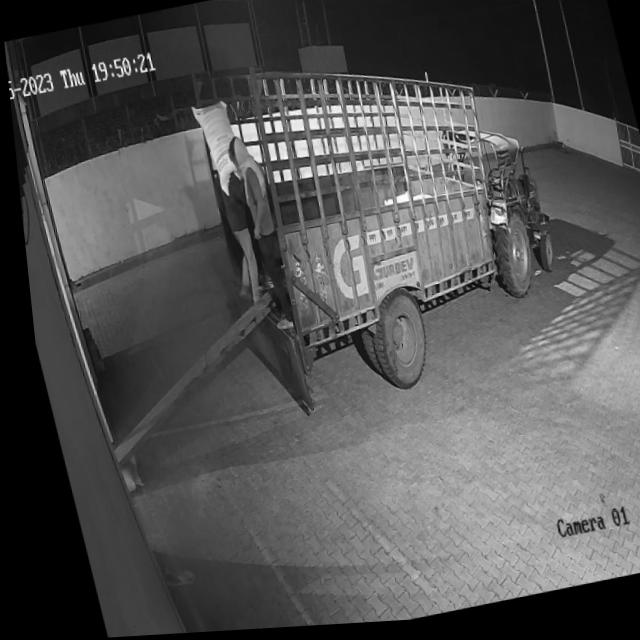sack: (190, 102, 245, 201)
